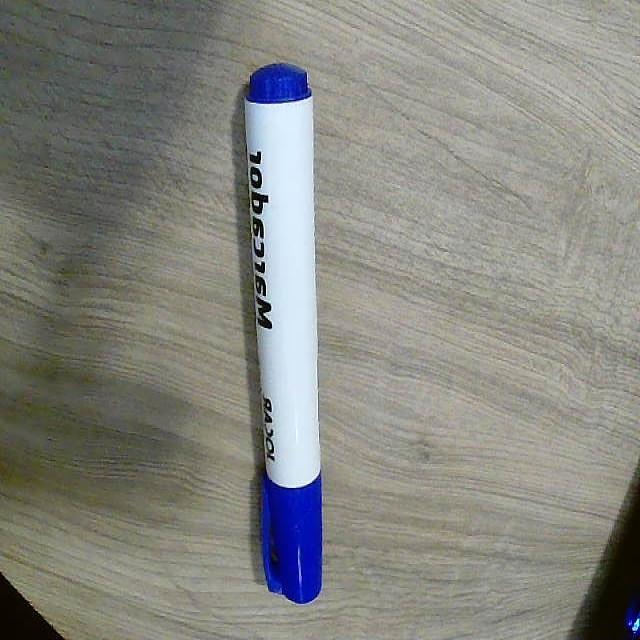caneta: (250, 54, 314, 614)
